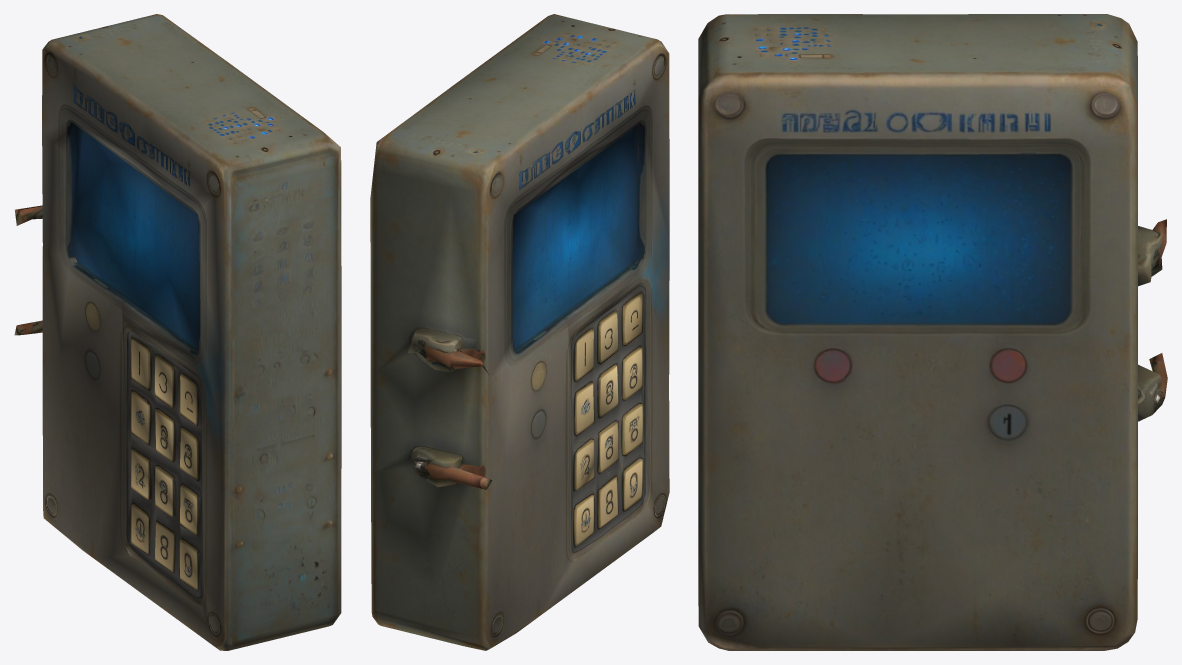
File: Access_Terminal_0408235705_texture.glb
3 renders of one model, left to right at view 1: azimuth 30°, elevation 25°; view 2: azimuth 150°, elevation 25°; view 3: azimuth 270°, elevation 25°, orthographic. The views are drawn at different scales.
Visible parts, largest first — view 1: Mesh1; view 2: Mesh1; view 3: Mesh1.
Boxes of the visible parts, box(x1,y1,x2,y2) form: Mesh1: box(14, 14, 341, 650); Mesh1: box(370, 14, 669, 650); Mesh1: box(698, 14, 1167, 650).
Bounding box in the file's own units: 0.5629 × 2 × 1.48.
1 material, 1 textured.
